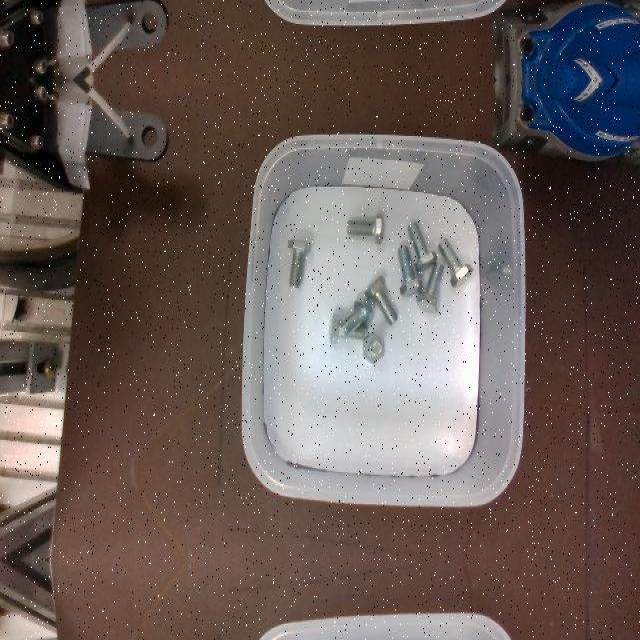screw: (439, 238, 474, 288), (364, 275, 397, 325), (339, 297, 374, 339), (416, 261, 444, 313), (408, 220, 437, 270), (397, 243, 423, 297), (287, 239, 311, 287), (347, 213, 384, 243), (362, 333, 385, 363)
